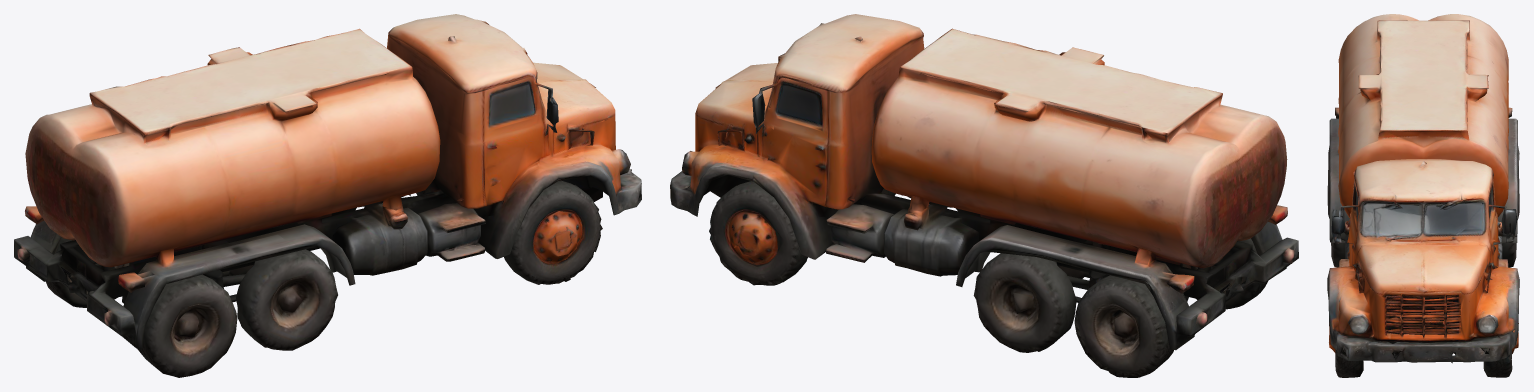
The model's file is qr_tanker.glb.
The picture shows the model from 3 angles, left to right: view 1: azimuth 30°, elevation 25°; view 2: azimuth 150°, elevation 25°; view 3: azimuth 270°, elevation 25°; orthographic projection. The views are drawn at different scales.
Parts seen in each view (by area): view 1: tripo_node_e2dcf7f2-64ff-483e-a09b-1ae2bd0d0b15; view 2: tripo_node_e2dcf7f2-64ff-483e-a09b-1ae2bd0d0b15; view 3: tripo_node_e2dcf7f2-64ff-483e-a09b-1ae2bd0d0b15.
Boxes of the visible parts, <box> form: tripo_node_e2dcf7f2-64ff-483e-a09b-1ae2bd0d0b15: <box>14,14,641,377</box>; tripo_node_e2dcf7f2-64ff-483e-a09b-1ae2bd0d0b15: <box>670,14,1298,377</box>; tripo_node_e2dcf7f2-64ff-483e-a09b-1ae2bd0d0b15: <box>1327,14,1519,377</box>.
Size of the model in its own units: 0.986 by 0.4032 by 0.3608.
Materials: 1 (1 with a texture image).
